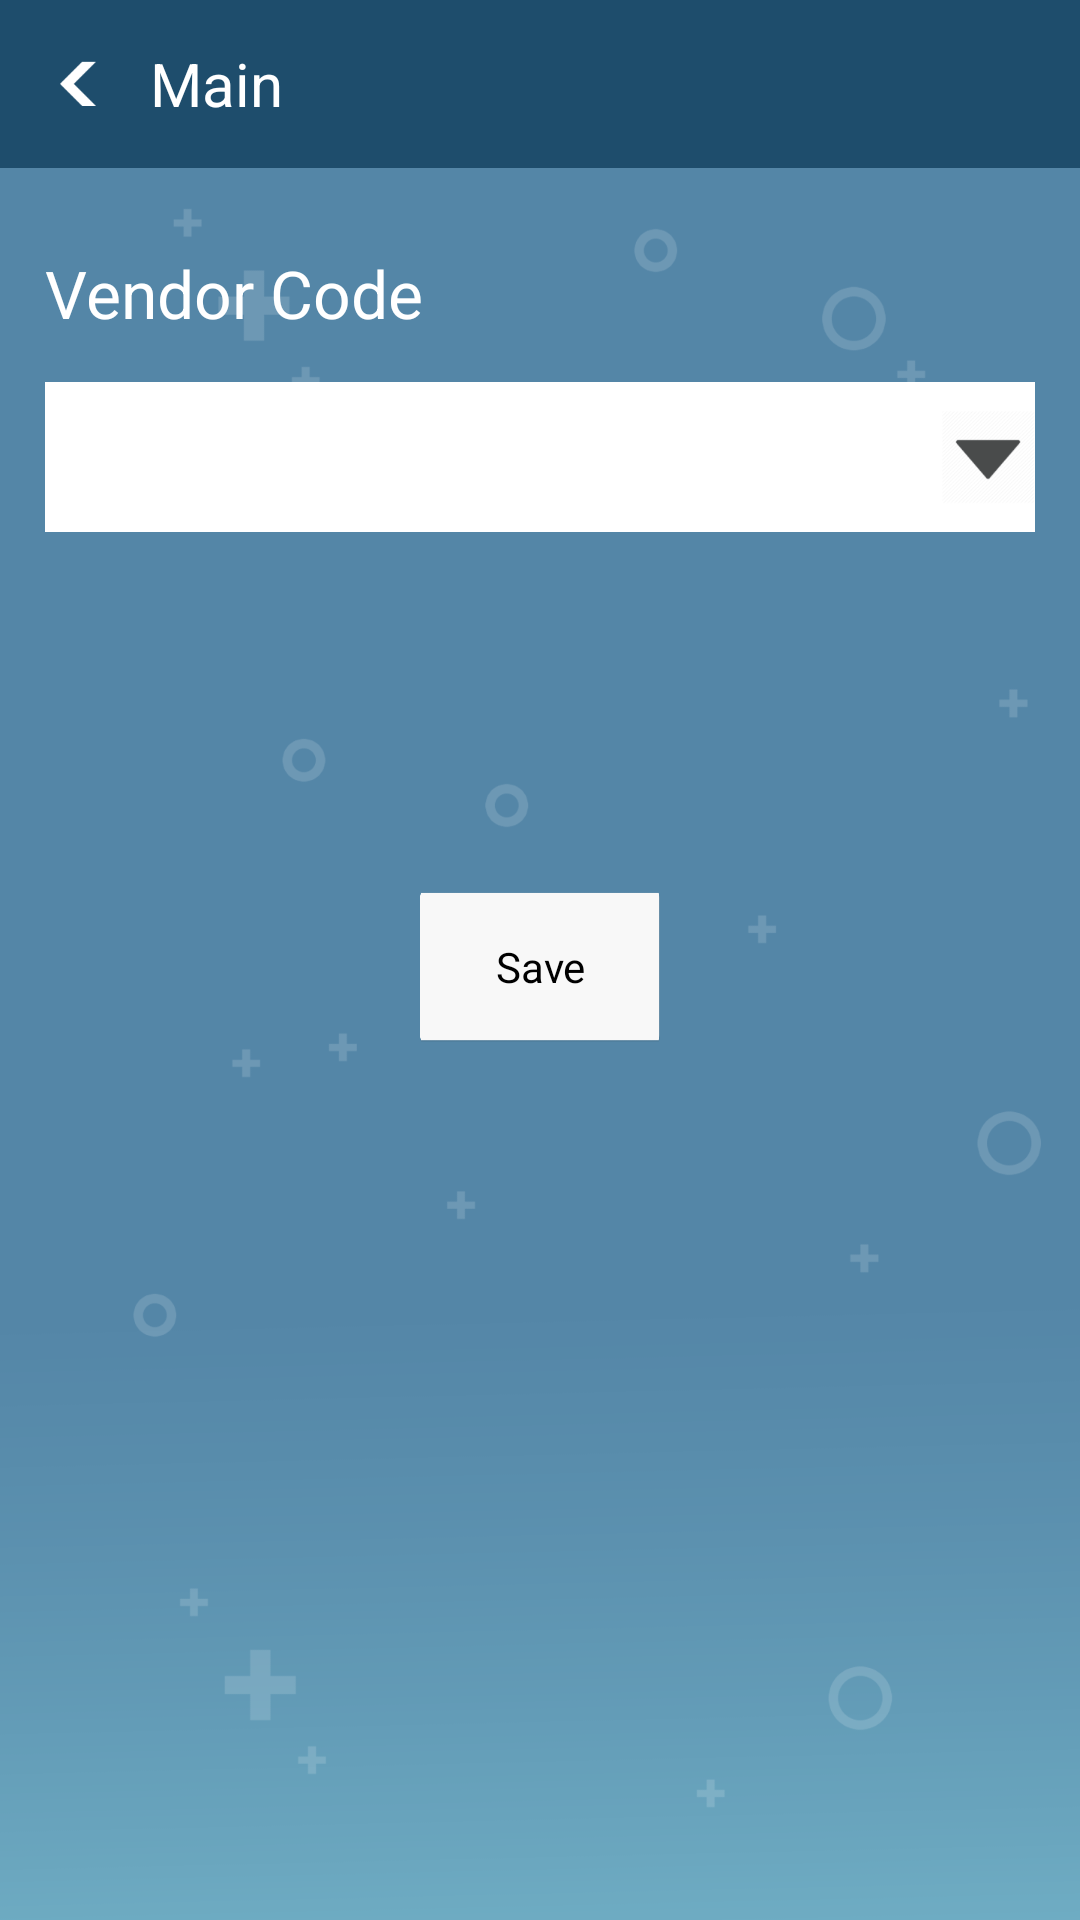

Screen size 1080x1920. Icon name, then its center in pixels as (x=x, y=y):
back: (x=78, y=83)
